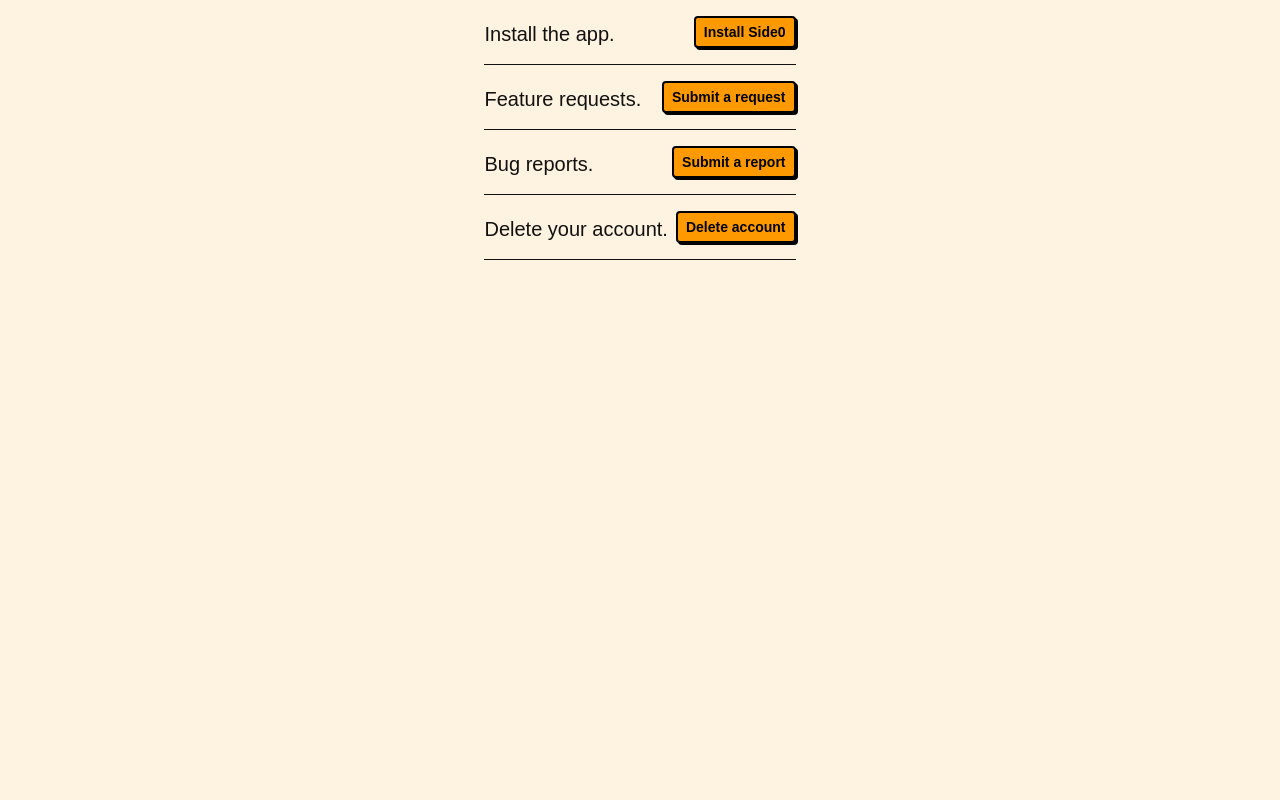
AccountActions › opens the bug report modal
Click the button "Submit a report".
click(734, 162)  # box [672,146,796,178]
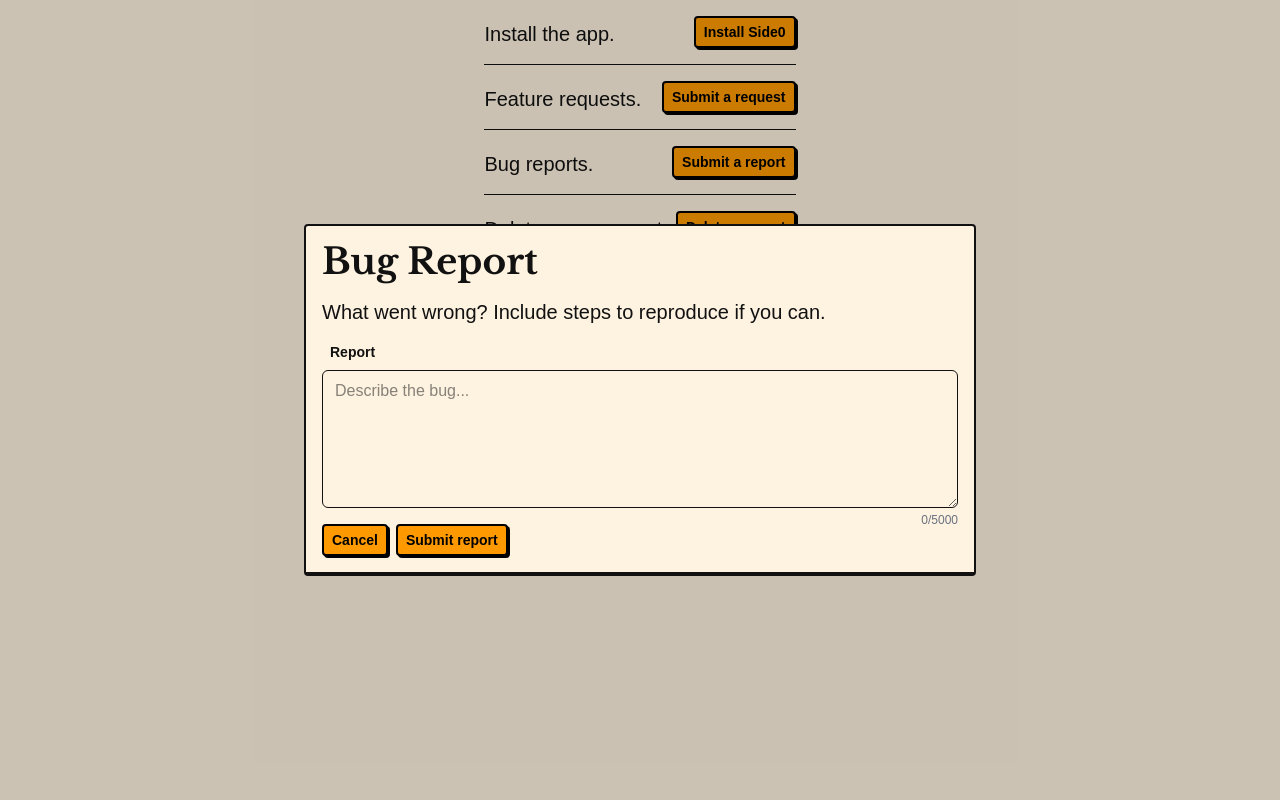
Now the dialog is shown, box [304,224,976,576]
Now the heading "Bug Report" is shown, box [322,239,538,284]
